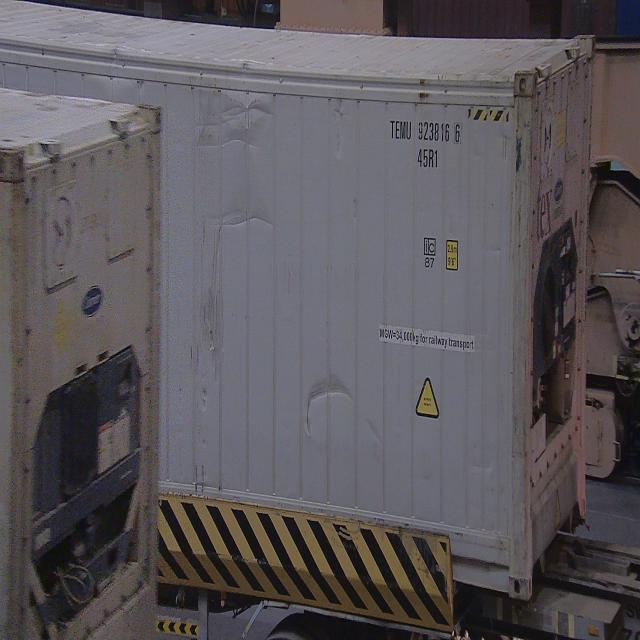dent: (303, 373, 371, 450), (201, 107, 269, 152)
